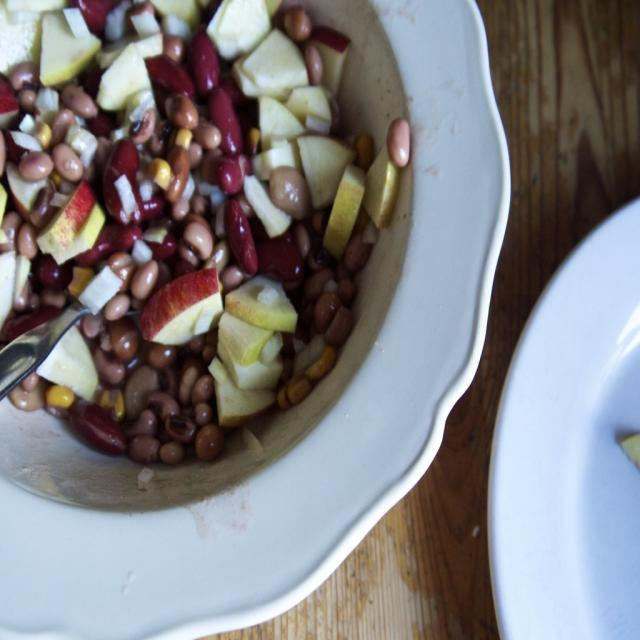Salad: (0, 0, 414, 508)
